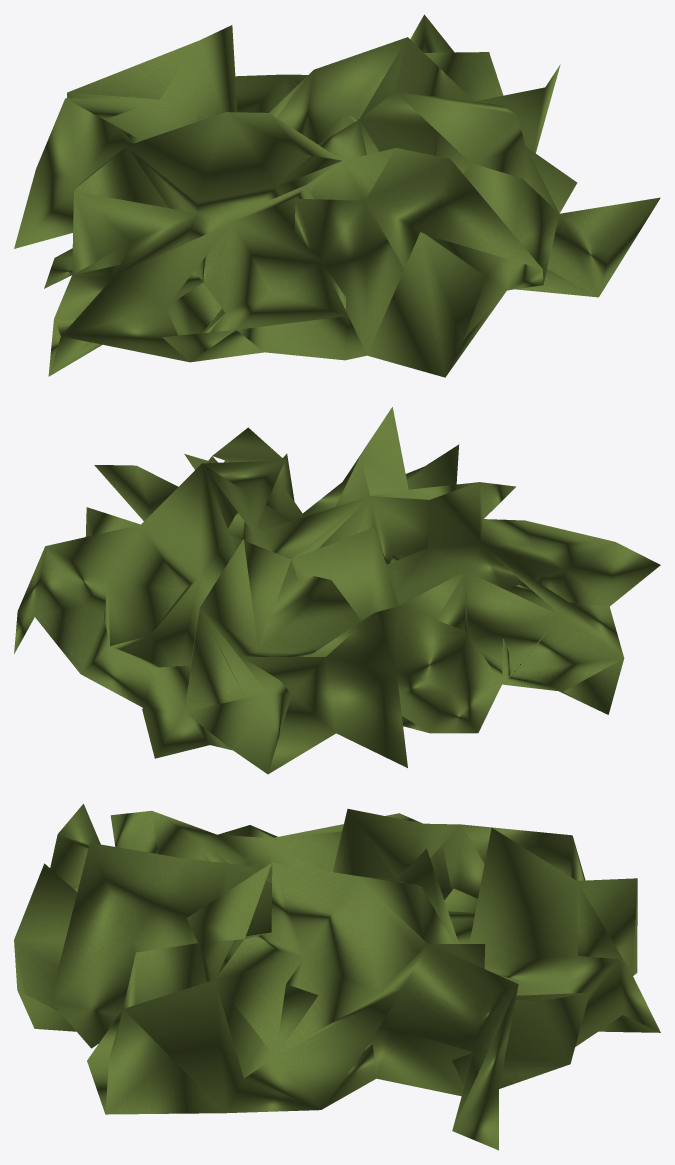
Rendered from watershrub_lod1.glb.
The picture shows the model from 3 angles, top to bottom: view 1: azimuth 30°, elevation 25°; view 2: azimuth 150°, elevation 25°; view 3: azimuth 270°, elevation 25°; orthographic projection. The views are drawn at different scales.
Bounding box in the file's own units: 1.62 × 0.5776 × 1.53.
Materials: 1 (1 with a texture image).
